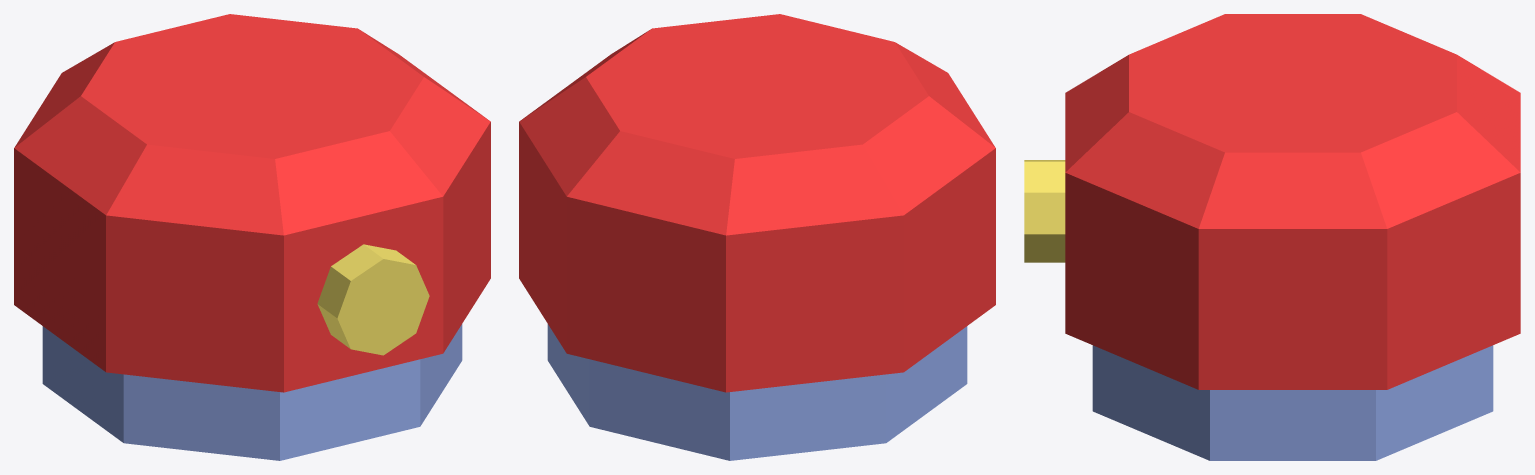
File: claw_hub.glb
The picture shows the model from 3 angles, left to right: view 1: azimuth 30°, elevation 25°; view 2: azimuth 150°, elevation 25°; view 3: azimuth 270°, elevation 25°; orthographic projection. The views are drawn at different scales.
Visible parts, largest first — view 1: HubTop, Hub, Collar, Lamp; view 2: Hub, HubTop, Collar; view 3: HubTop, Hub, Collar, Lamp.
Part boxes in pixels (left/top/right/bottom): HubTop: left=14, top=14, right=490, bottom=235; Hub: left=14, top=122, right=490, bottom=392; Collar: left=42, top=324, right=462, bottom=460; Lamp: left=317, top=244, right=429, bottom=355; Hub: left=519, top=122, right=995, bottom=392; HubTop: left=519, top=14, right=995, bottom=235; Collar: left=547, top=324, right=967, bottom=460; HubTop: left=1065, top=14, right=1520, bottom=228; Hub: left=1065, top=173, right=1520, bottom=389; Collar: left=1092, top=345, right=1493, bottom=460; Lamp: left=1024, top=160, right=1065, bottom=262.
Bounding box in the file's own units: 0.5 × 0.355 × 0.545.
